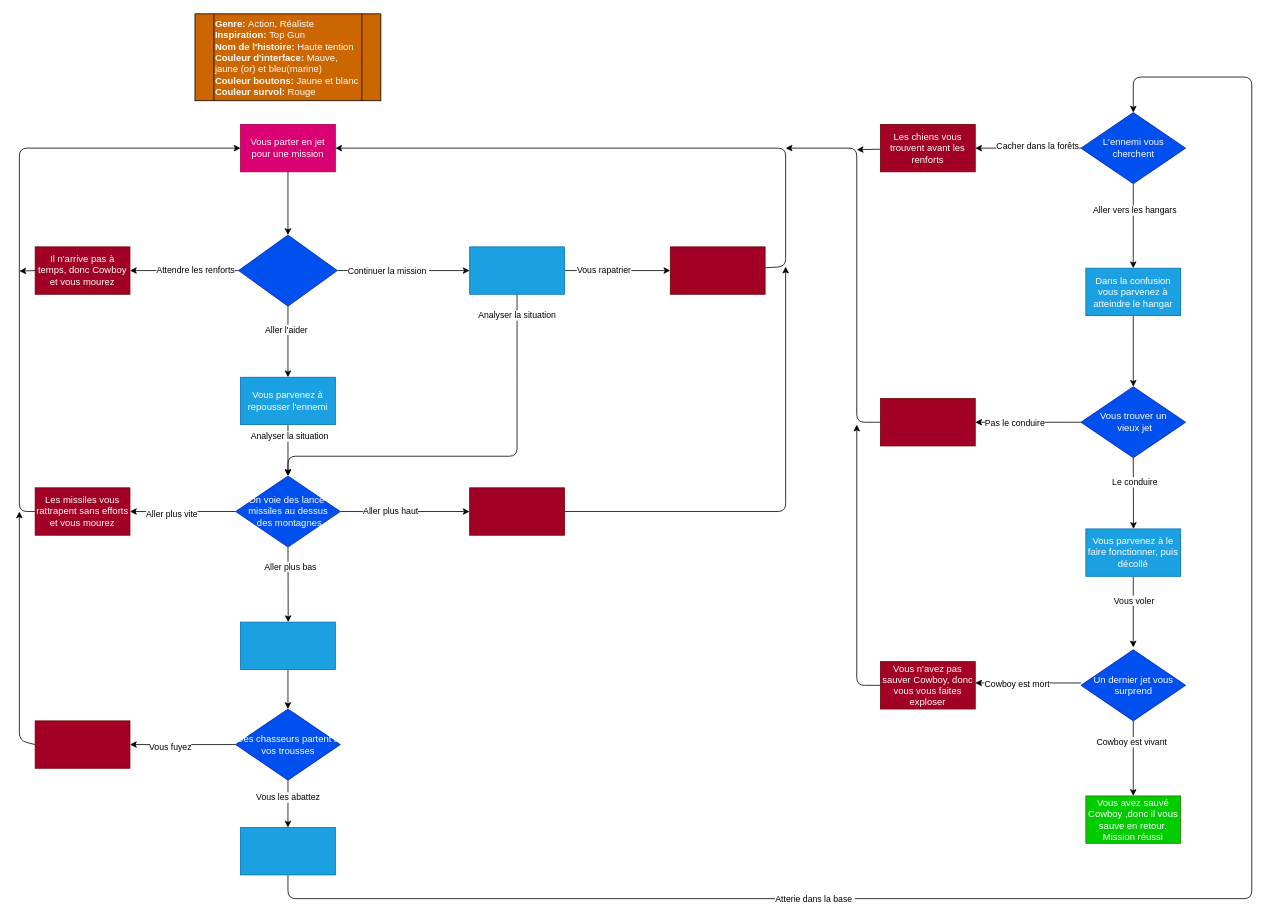
The diagram is 1272 pixels wide and 919 high, and some of its shapes have lost their labels. The centre of each missing label's shape, as x and y in pixels:
"Cowboy est en danger" belongs at point (287, 270).
"Cowboy se fait éliminer" belongs at point (516, 270).
"Ils ne vous détectent pas et vous parvenez à détruire leur laboratoire" belongs at point (287, 645).
"Ils vont rattrapent et vous explosent" belongs at point (82, 744).
"Les missiles vous détectent toujours et vous mourez" belongs at point (516, 511).
"Vous hésitez et ils vous trouvent" belongs at point (927, 422).
"Vous parvenez à en descendre deux ,mais un vous heurtent" belongs at point (287, 851).
"Vous tombez face à face a deux jets ennemis et mourez" belongs at point (717, 270).
